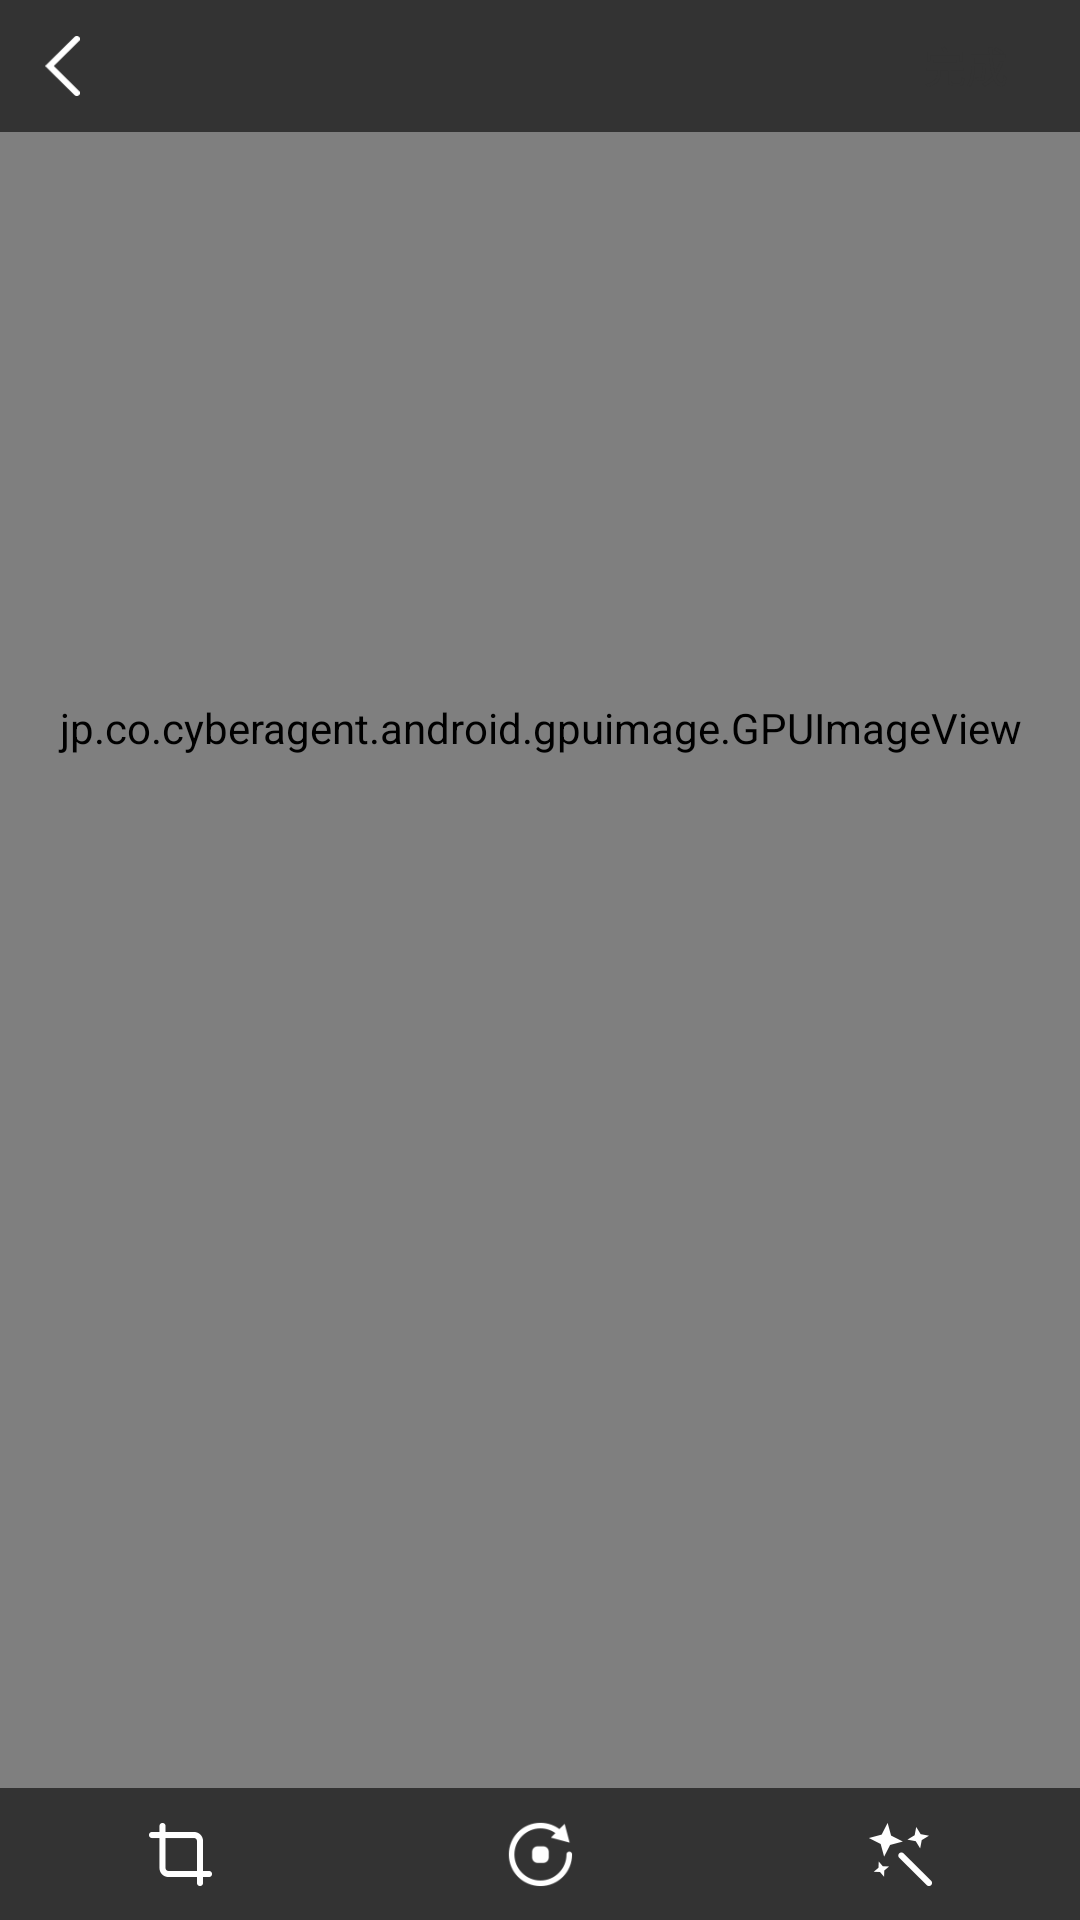

Where icons sit on this 1080*1920 app screen, as [x1,y1,x2,y2]:
function cut: [149,1823,212,1886]
function filter: [869,1823,932,1886]
function rotate: [508,1822,572,1886]
left arrow: [45,36,80,96]
